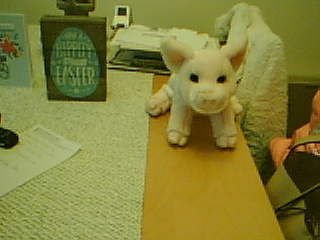piggy: (144, 32, 251, 151)
